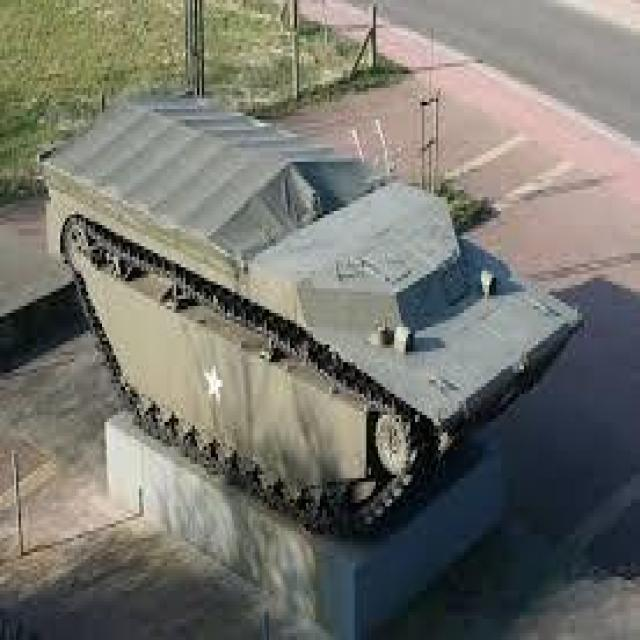Tanks: (30, 88, 601, 531)
